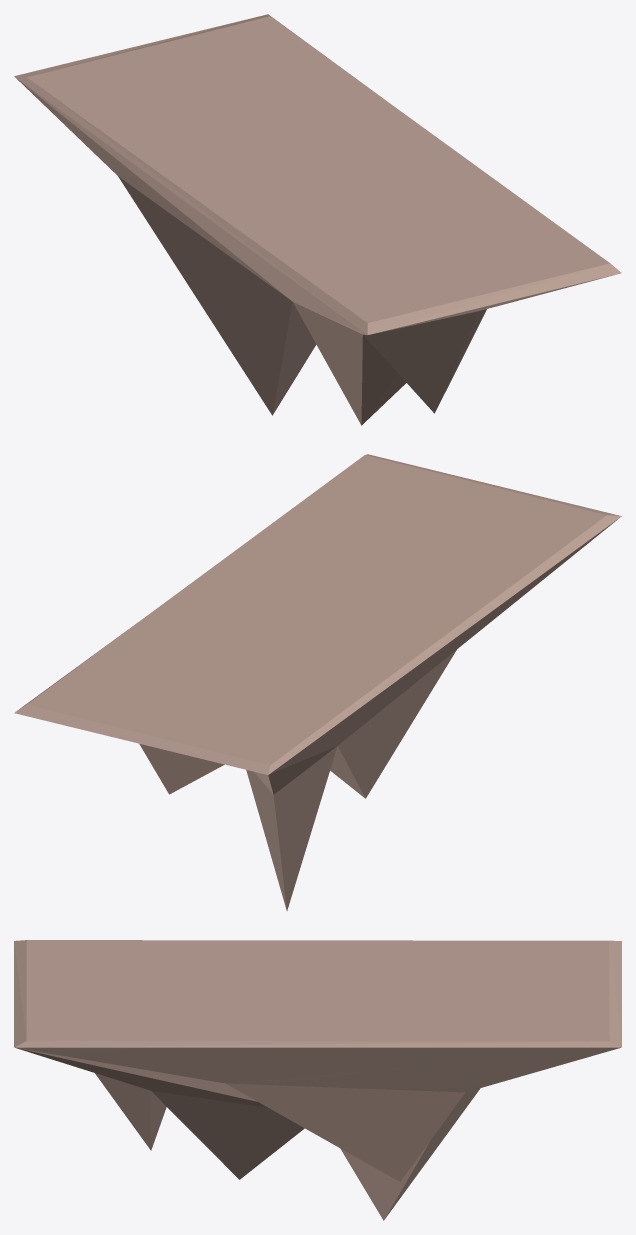
3 views of the same model, one above another, from view 1: azimuth 30°, elevation 25°; view 2: azimuth 150°, elevation 25°; view 3: azimuth 270°, elevation 25° (orthographic). The views are drawn at different scales.
Visible parts, largest first — view 1: Land; view 2: Land; view 3: Land.
Part boxes in pixels (x1,y1,x2,y2): Land: [14, 14, 621, 425]; Land: [14, 454, 621, 910]; Land: [14, 940, 621, 1220].
Bounding box in the file's own units: 181 × 185 × 435.
